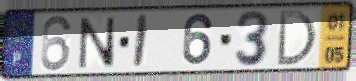3: (233, 9, 273, 69)
6: (40, 14, 74, 74), (182, 11, 215, 69)
D: (274, 8, 319, 67)
I: (131, 13, 151, 71)
N: (77, 16, 118, 71)
